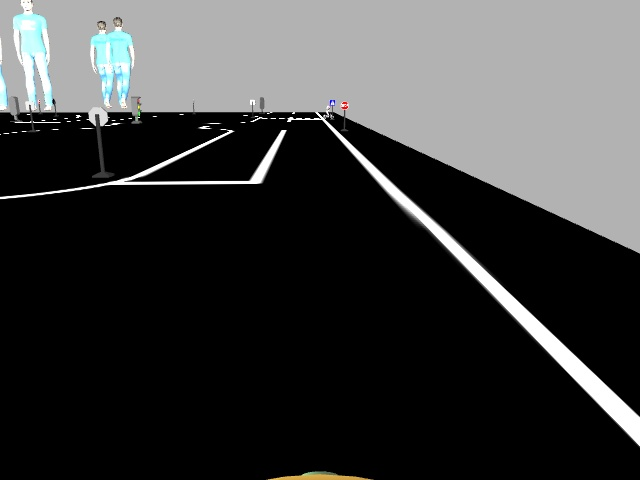Stop: (340, 100, 348, 111)
TrafficLight: (129, 95, 142, 117)
